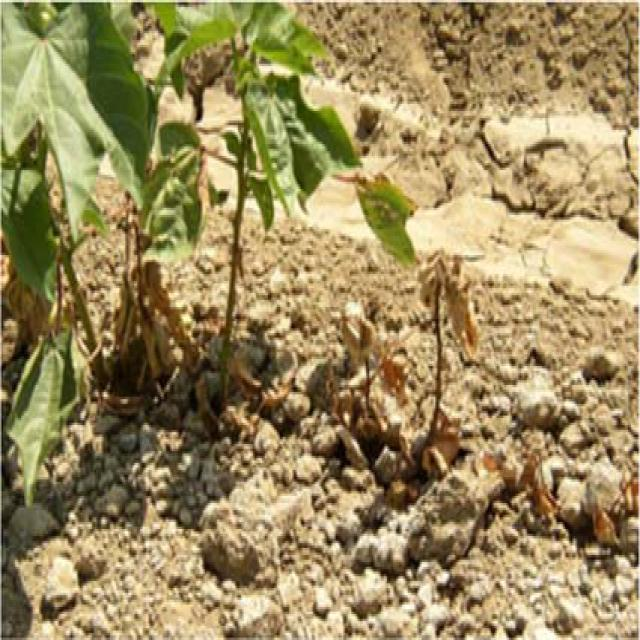Fusarium Wilt: (46, 90, 476, 450)
